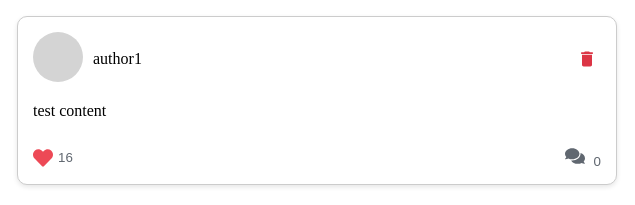
Test: Liking a Post › should decrease like count optimistically and send DELETE request
# Assume the post was initially liked by the user
Click the button named "unlike".
click(53, 158)  # box [33,146,73,169]
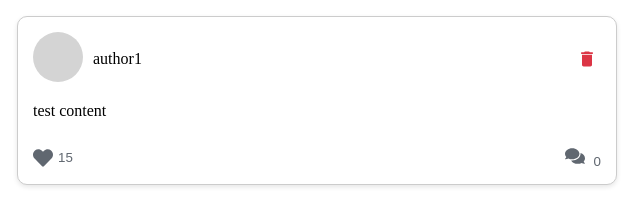
Now the button "15" is shown, box [33,146,73,169]
